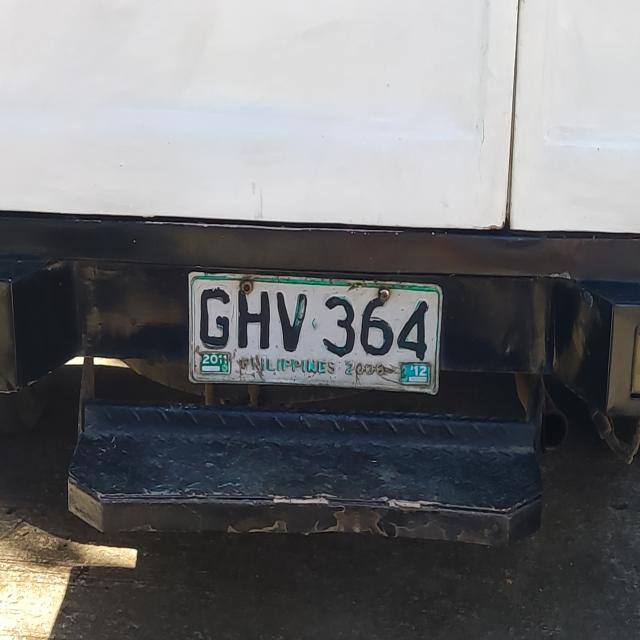LicensePlate: (178, 264, 449, 407)
